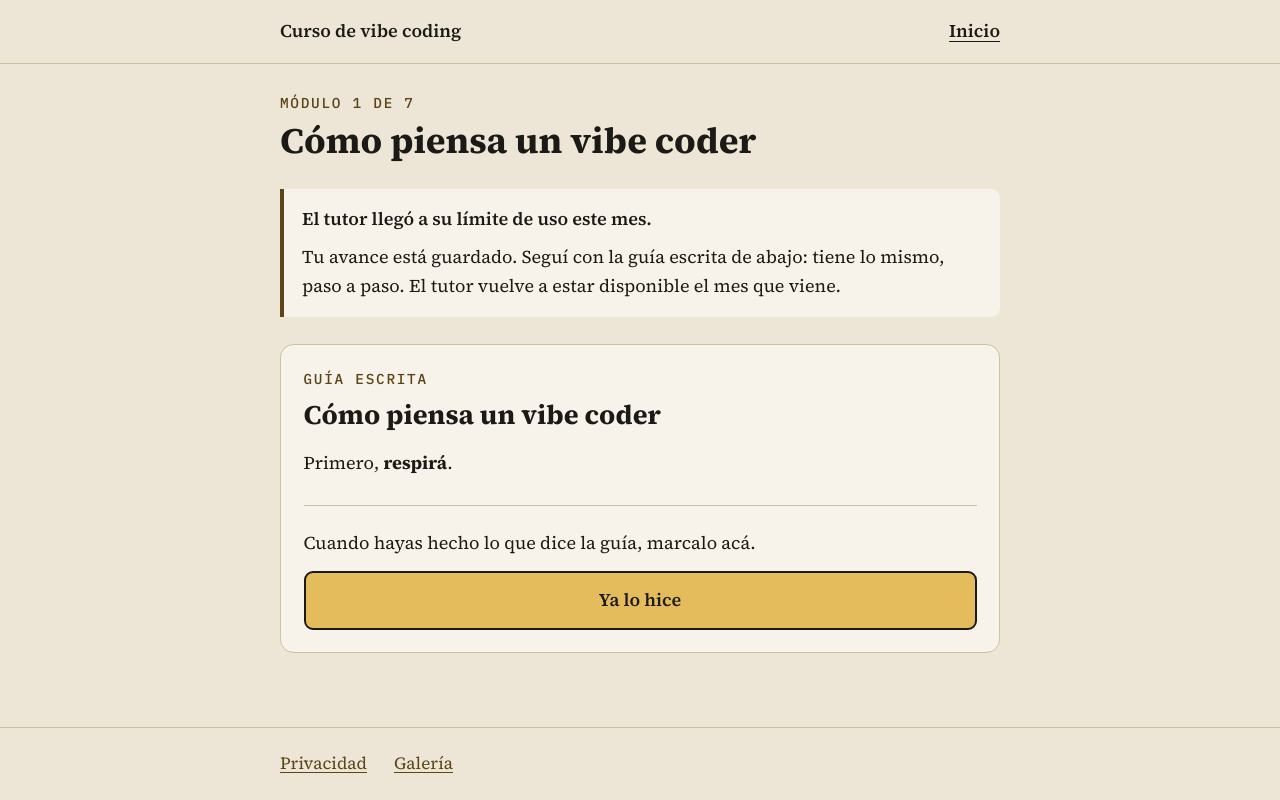
Modulo › con el tope alcanzado muestra la guía escrita y "ya lo hice" marca el módulo
Expected: the text "El tutor llegó a su límite de uso este mes." is shown, 302,206 -> 652,231
Expected: the text "respirá" is shown, 383,450 -> 447,475
Click the button "Ya lo hice" at (640, 600), box 304,571 -> 976,630
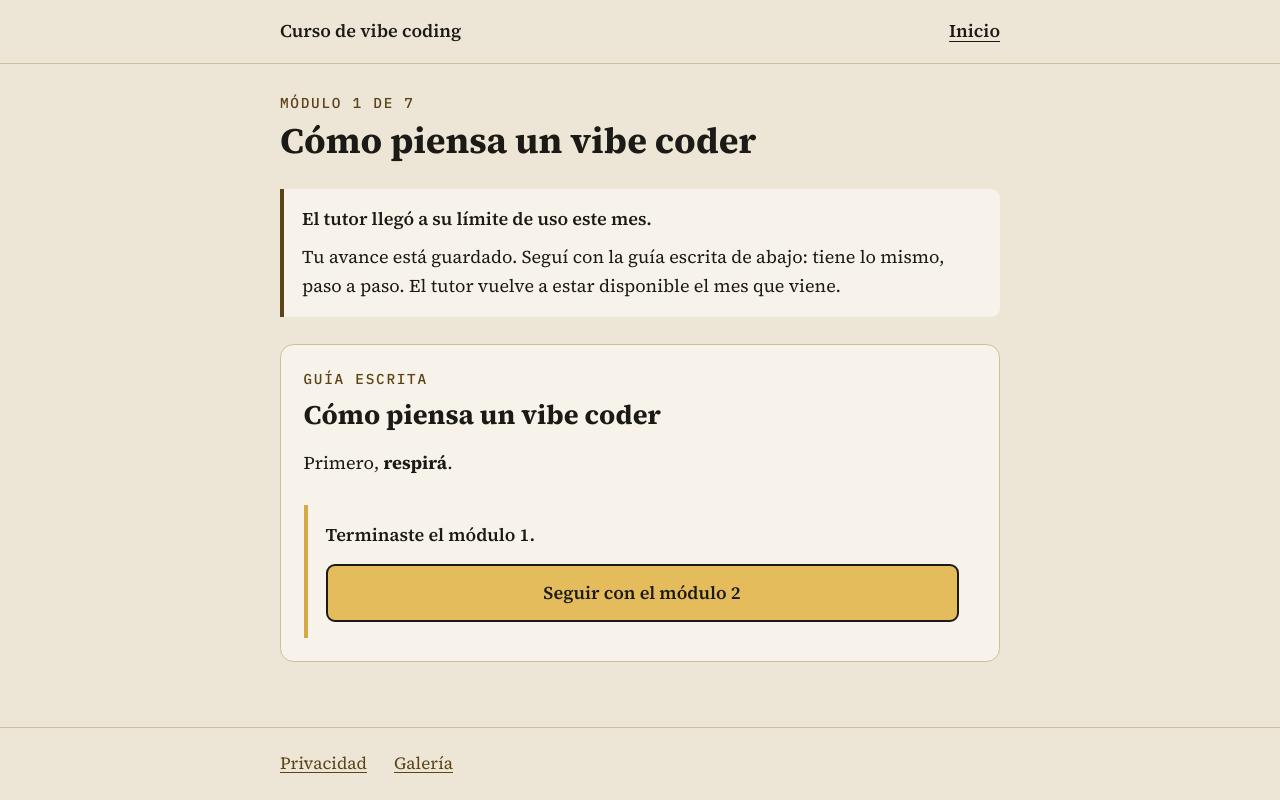
Result: the text "Terminaste el módulo 1." is shown at 326,522 -> 535,547
